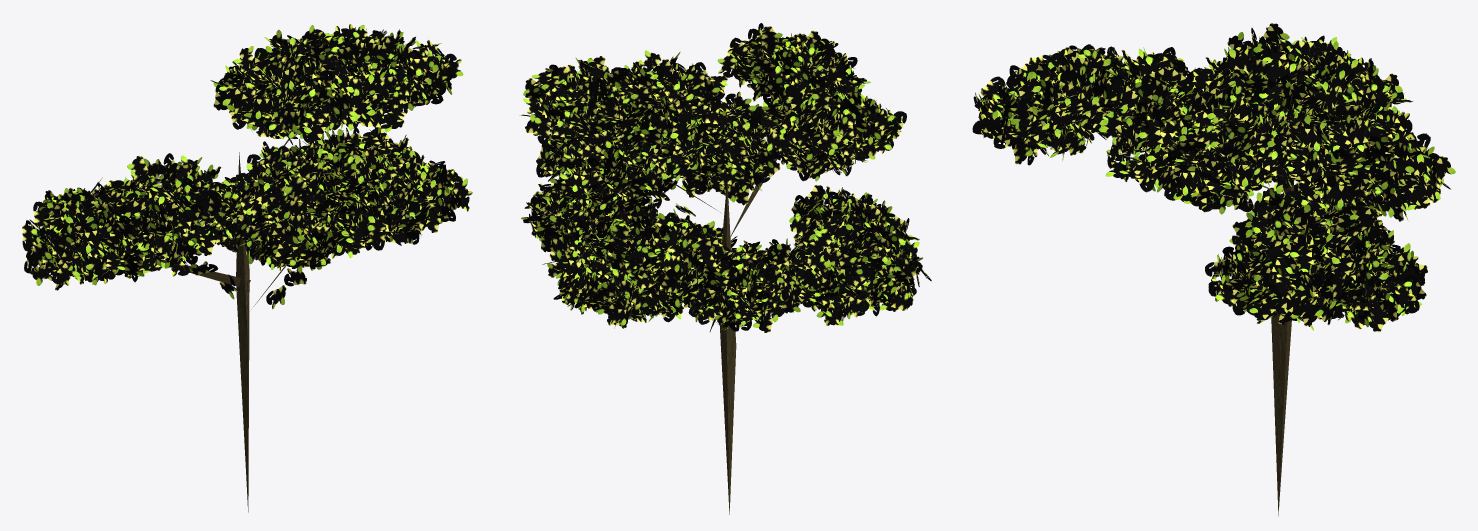
File: acacia_flat_v01_LOD1.fbx
The picture shows the model from 3 angles, left to right: view 1: azimuth 30°, elevation 25°; view 2: azimuth 150°, elevation 25°; view 3: azimuth 270°, elevation 25°; orthographic projection. The views are drawn at different scales.
Visible parts, largest first — view 1: acacia_flat_v01_LOD1; view 2: acacia_flat_v01_LOD1; view 3: acacia_flat_v01_LOD1.
Part boxes in pixels (box(x1,y1,x2,y2)): acacia_flat_v01_LOD1: box(22, 24, 472, 512); acacia_flat_v01_LOD1: box(519, 23, 931, 514); acacia_flat_v01_LOD1: box(972, 23, 1455, 515).
Size of the model in its own units: 933 by 833 by 966.
2 materials, 2 textured.
